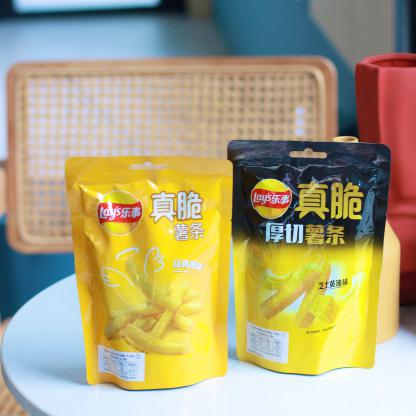potatochip: (227, 134, 391, 379), (62, 152, 228, 392)
